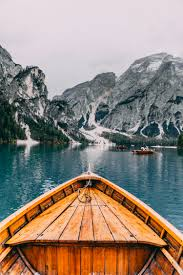boat: (1, 170, 182, 275), (132, 145, 155, 155)
